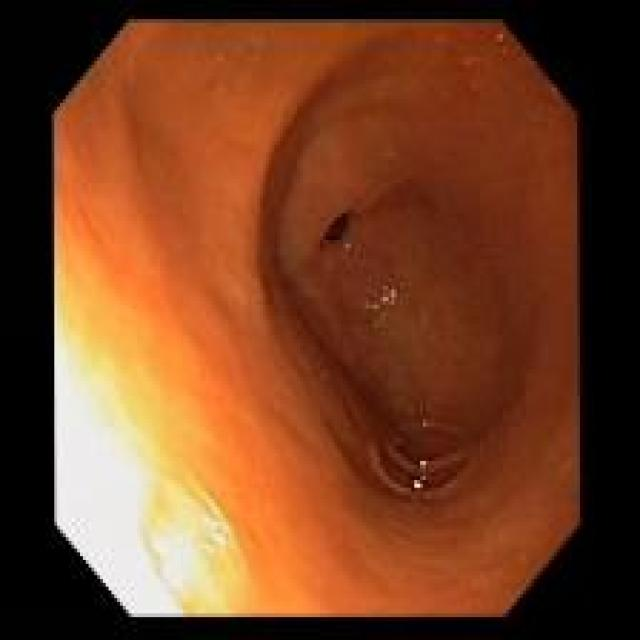bubbles: (371, 407, 483, 509), (359, 276, 401, 317)
contrast: (362, 24, 580, 615), (325, 212, 351, 241)
saturation: (53, 187, 300, 617)
specularity: (414, 452, 436, 480), (407, 467, 428, 496)
